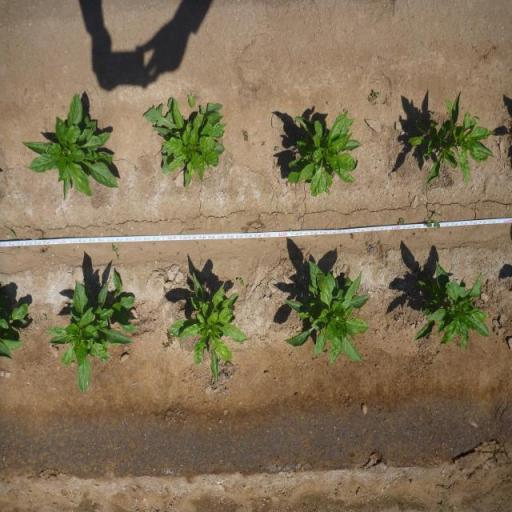plant: (42, 262, 140, 403), (16, 88, 120, 202), (280, 256, 372, 366), (407, 88, 499, 190), (408, 256, 494, 353), (176, 272, 240, 380), (288, 104, 359, 198), (173, 108, 225, 190), (0, 292, 30, 358)
weed: (144, 96, 175, 140), (159, 328, 175, 354), (425, 210, 442, 231), (364, 87, 380, 105), (10, 228, 20, 252), (110, 242, 121, 260), (187, 92, 198, 109), (242, 128, 249, 142), (236, 276, 244, 286), (396, 218, 406, 224), (133, 164, 138, 172), (260, 140, 266, 146), (350, 232, 354, 240), (274, 146, 279, 151), (130, 278, 134, 284)
